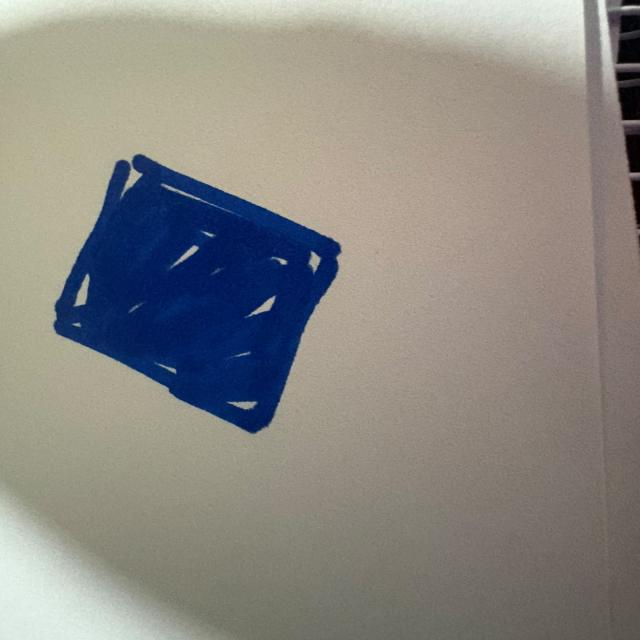Square: (53, 154, 339, 433)
